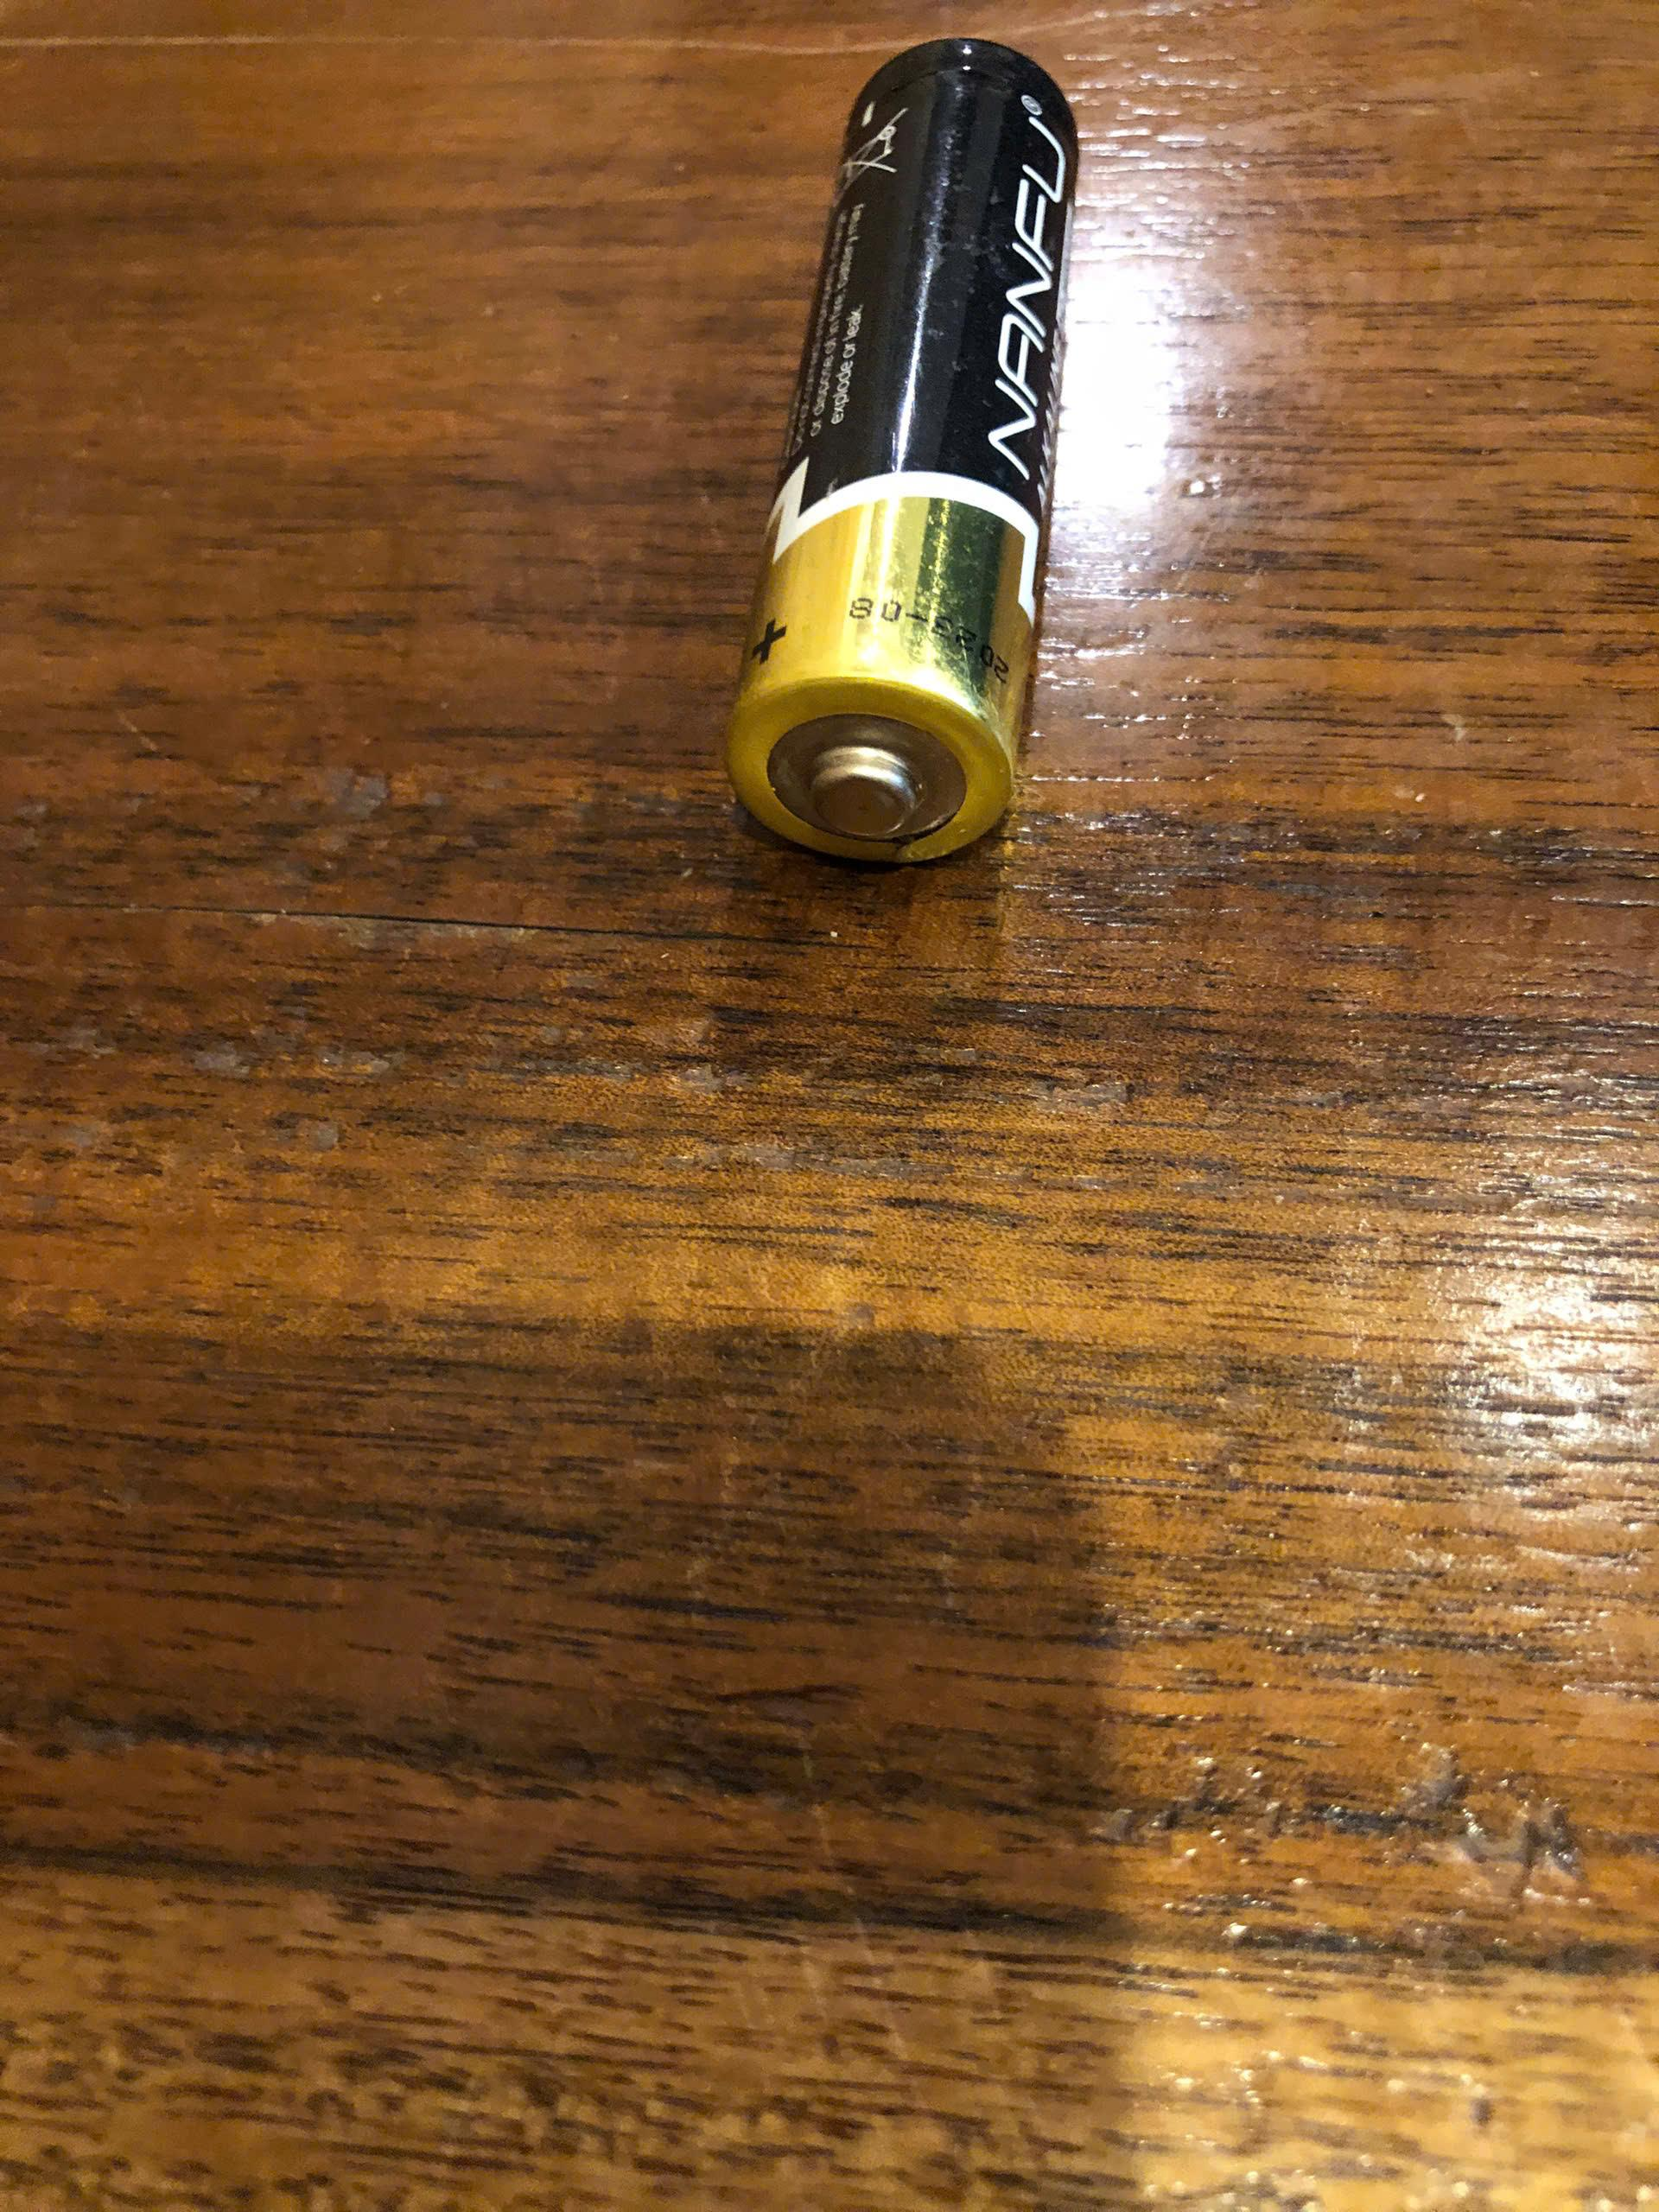Con lai: (725, 35, 1089, 862)
